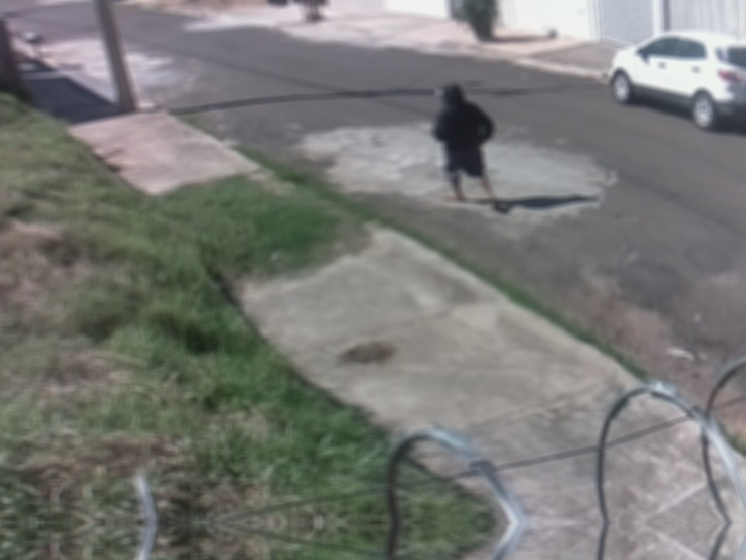person: (432, 83, 502, 212)
